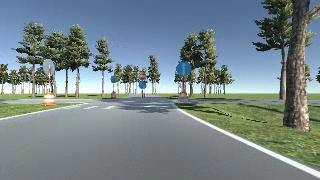go_ahead: (176, 61, 190, 74)
